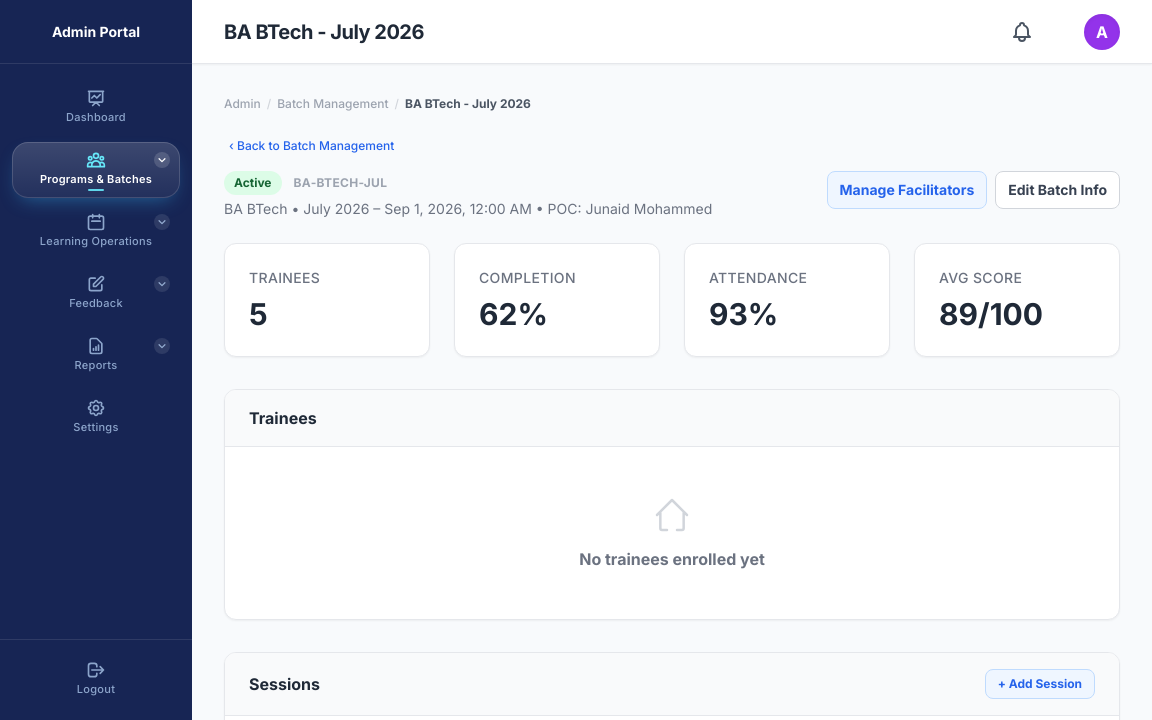
Test case: AdminBatchDetailPage › opens the Edit Batch Info modal pre-filled with the current values
Expected: the heading "BA BTech - July 2026" is shown, [224, 18, 424, 46]
Click the button "Edit Batch Info": (1058, 190) [995, 171, 1120, 209]
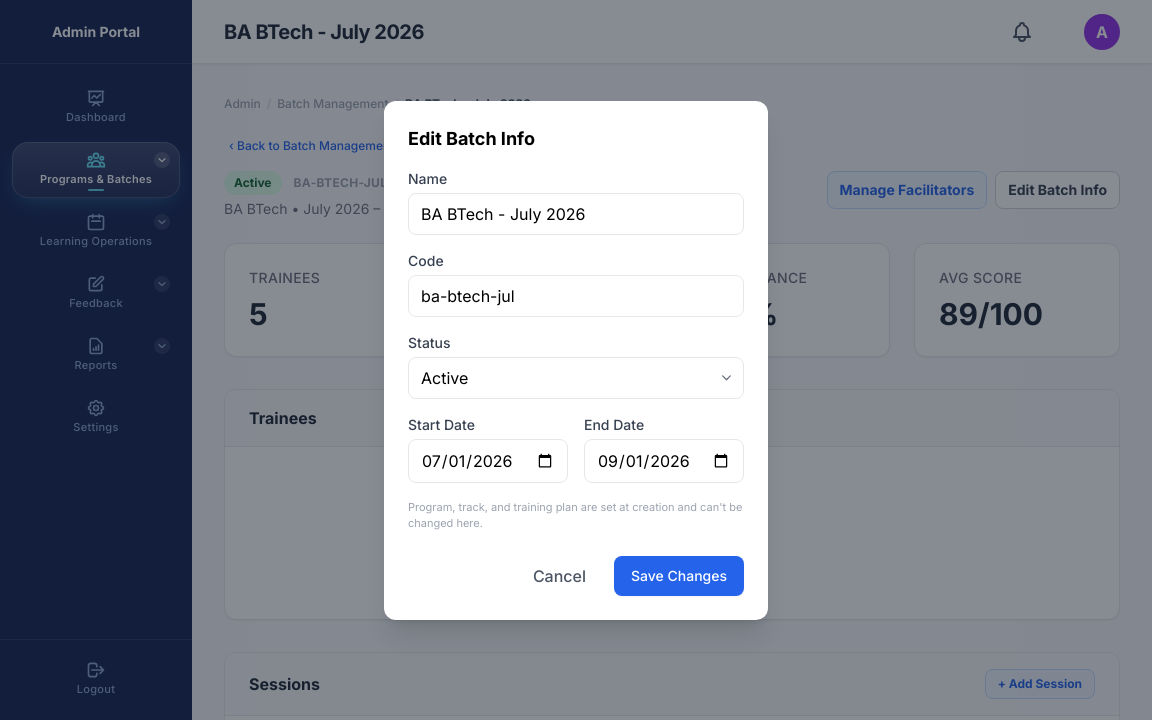
Now the field labelled "Name" holds "BA BTech - July 2026", box [408, 192, 744, 234]
Now the field labelled "Code" holds "ba-btech-jul", box [408, 274, 744, 316]
